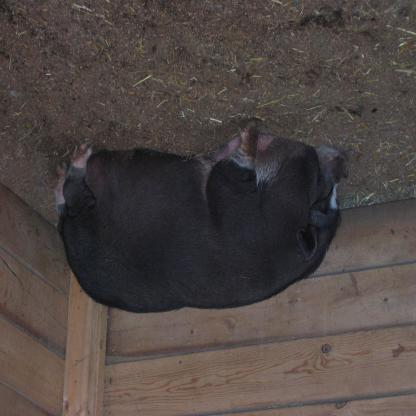boar: (56, 121, 349, 315)
